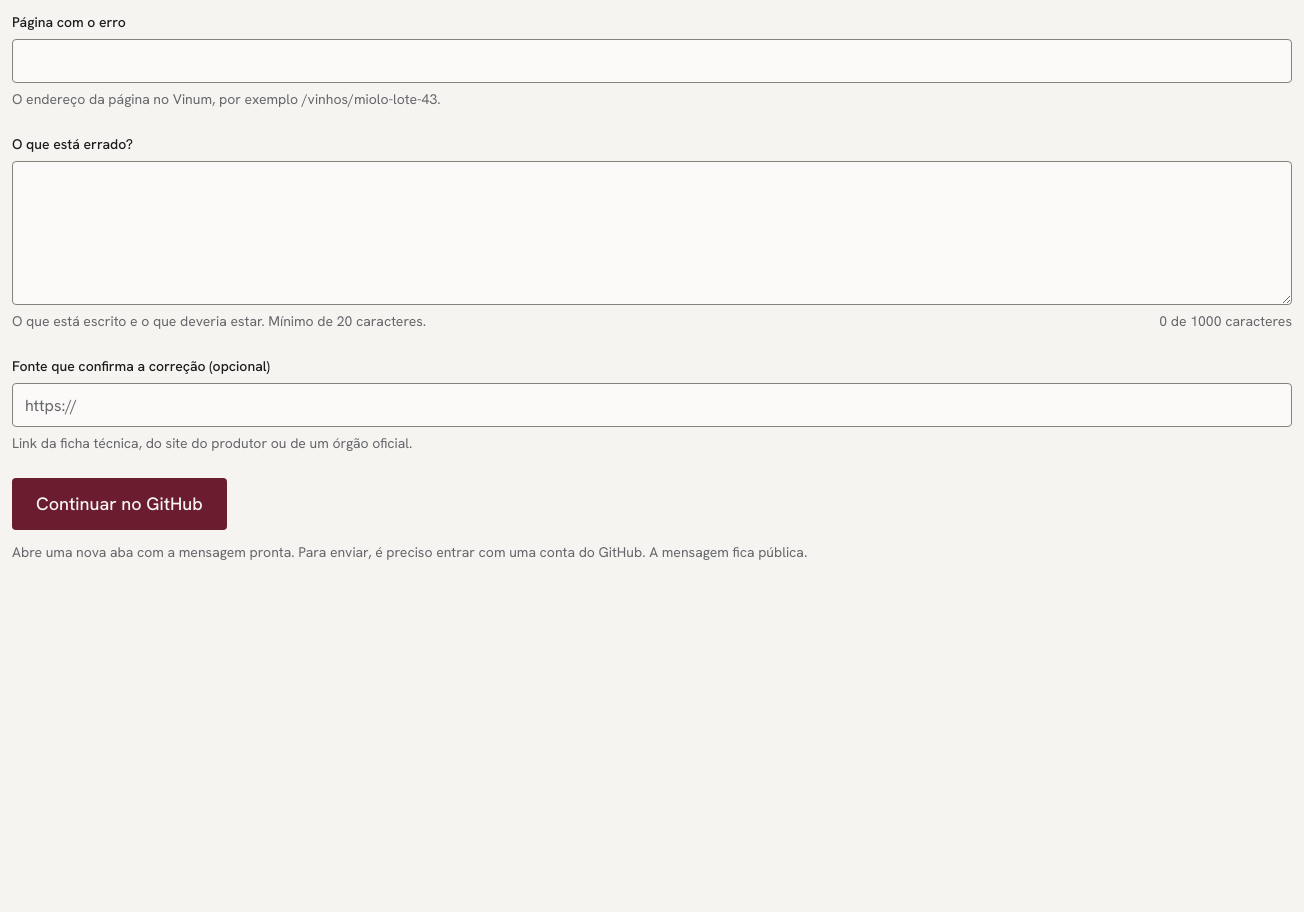
Test: CorrectionForm › enviar vazio mostra um resumo dos erros e marca os campos
Click the button "Continuar no GitHub". click: (119, 504)
box: [12,478,227,530]
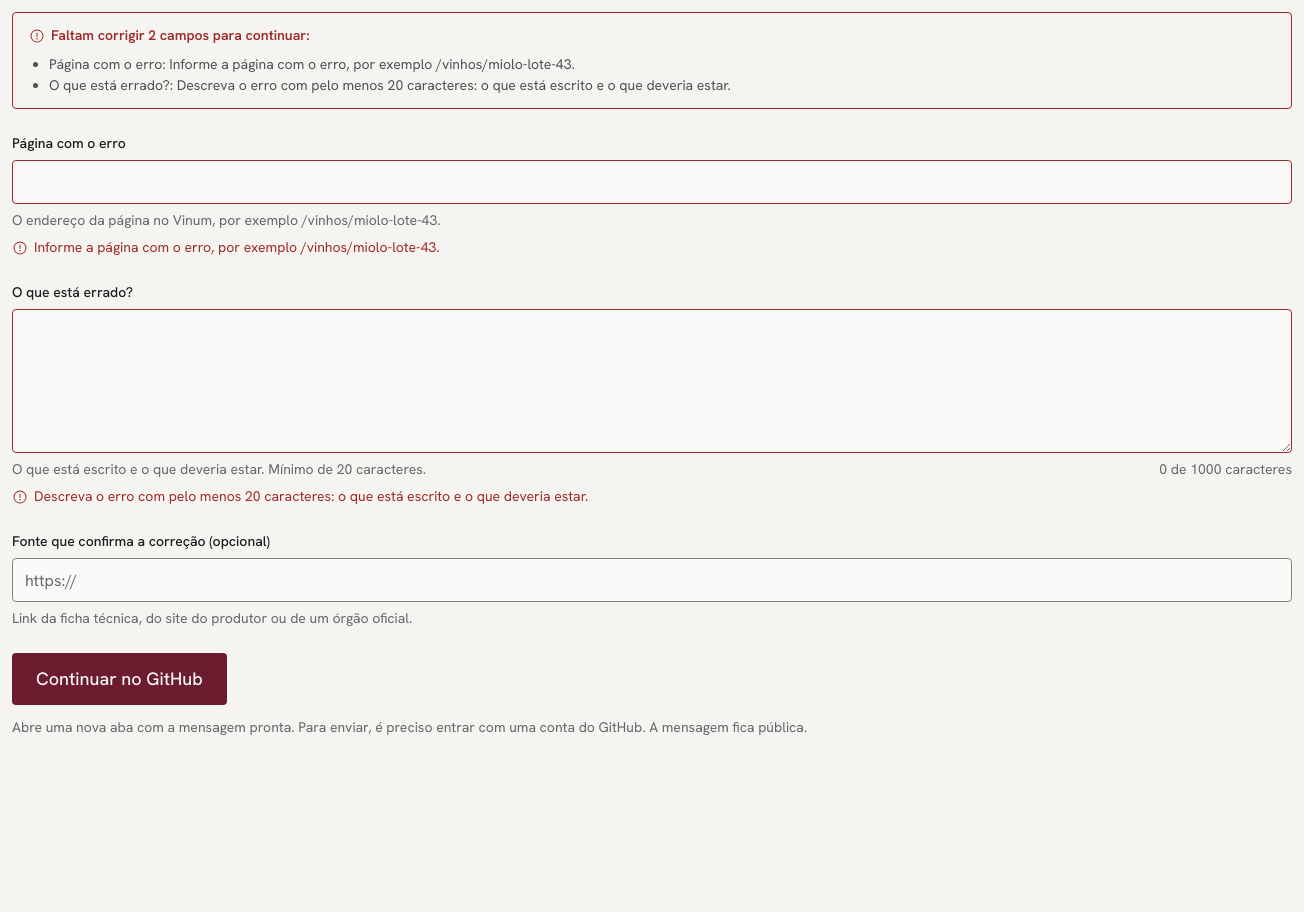
expect the message shows "Faltam corrigir 2 campos": met, box [51,26,310,44]
